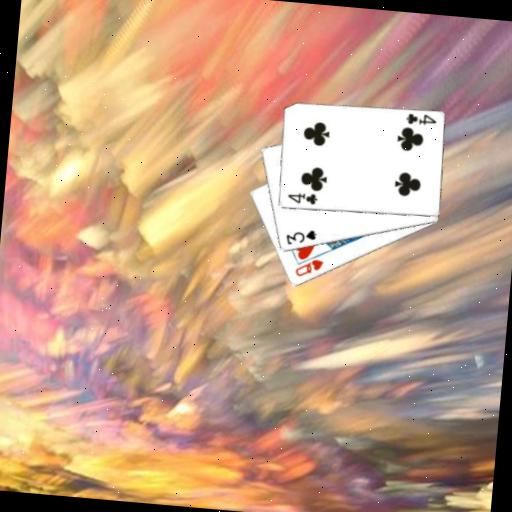3S: (282, 225, 319, 249)
4C: (403, 110, 439, 128), (284, 189, 319, 207)
QH: (291, 255, 325, 281)
